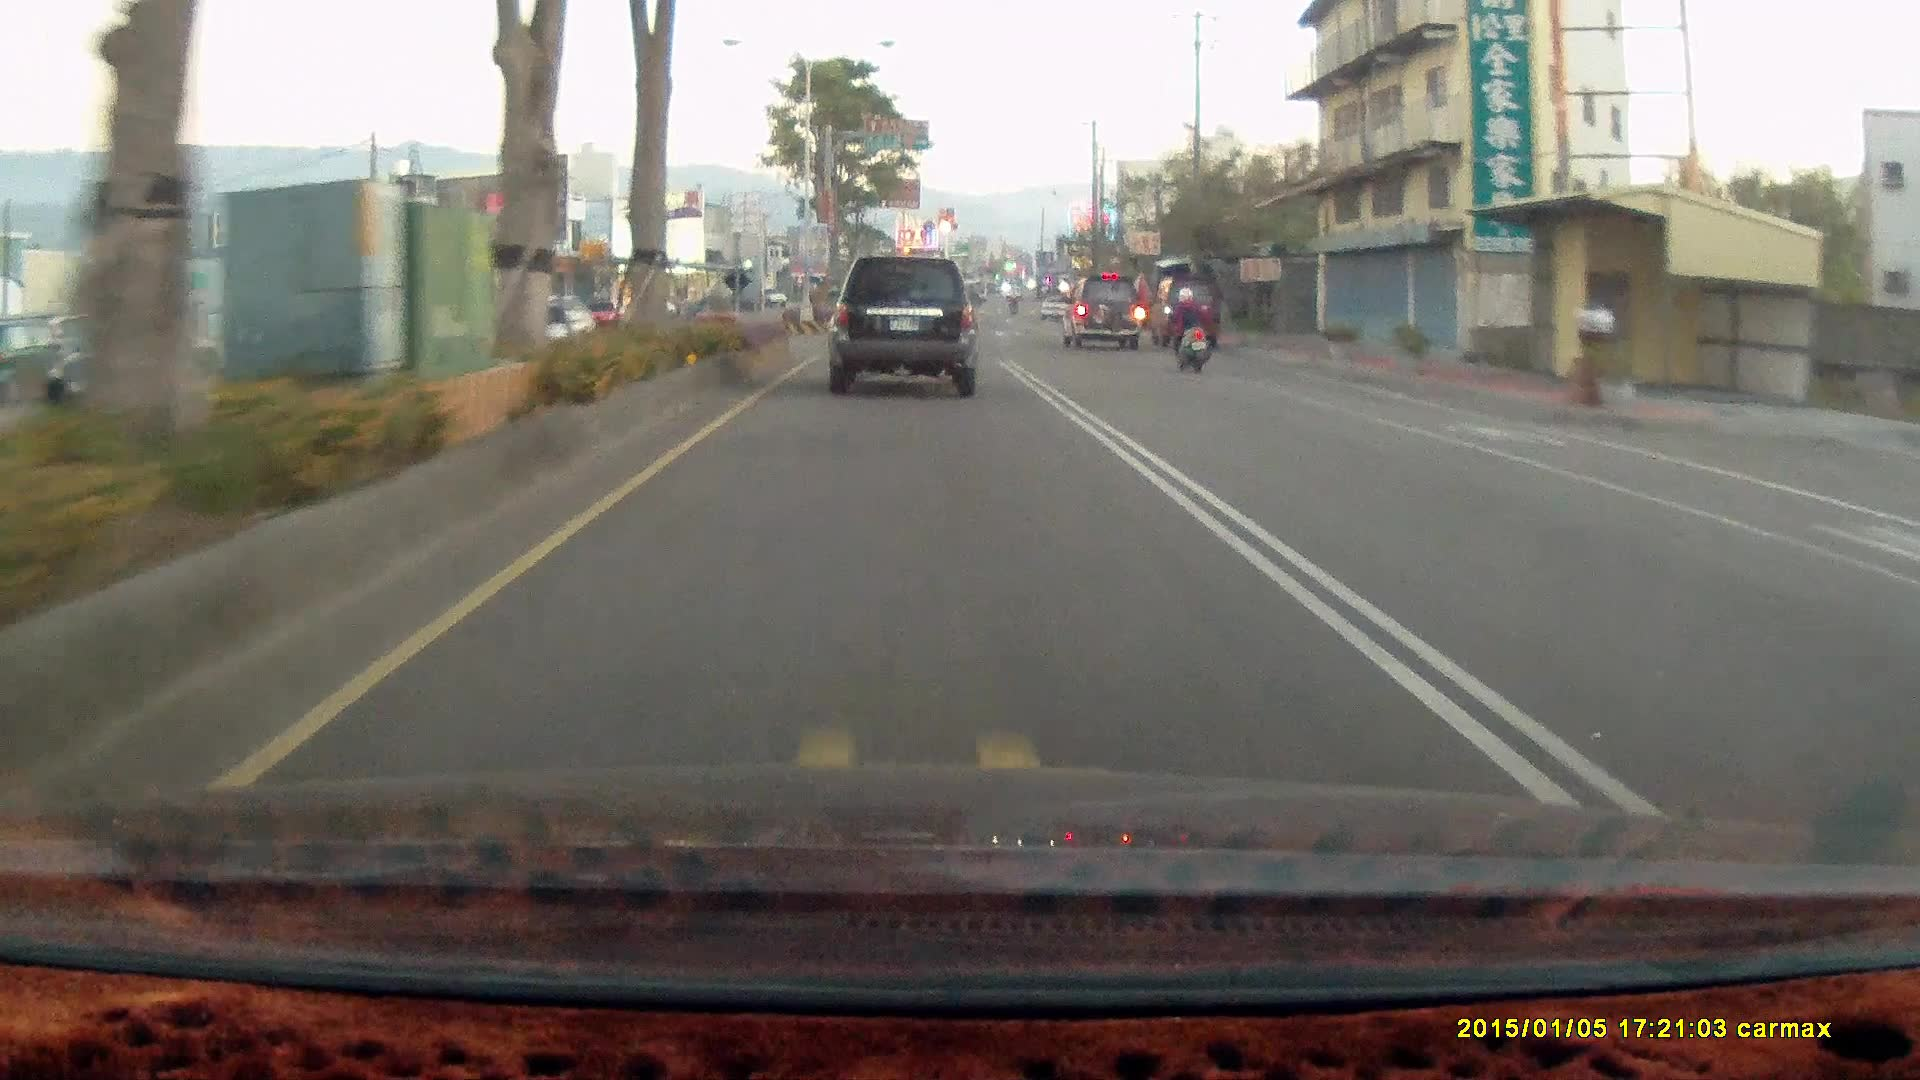rider: (1153, 275, 1223, 385), (1158, 288, 1208, 376)
vehicle: (827, 252, 985, 395), (826, 254, 980, 395), (1067, 277, 1153, 353), (1057, 277, 1143, 352), (1152, 278, 1224, 355), (1150, 277, 1221, 348)
